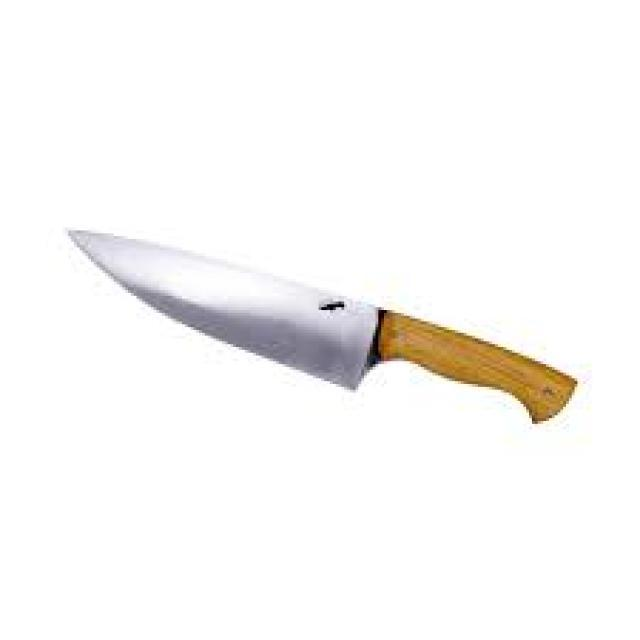Knife: (42, 160, 611, 491)
